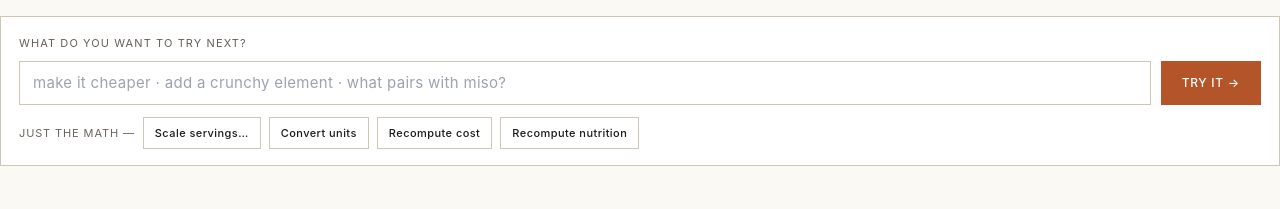
Test: the intent error clears on the next valid submit
Click the button "Try it →".
click(1211, 83)  # box x1=1161 y1=61 x2=1261 y2=105
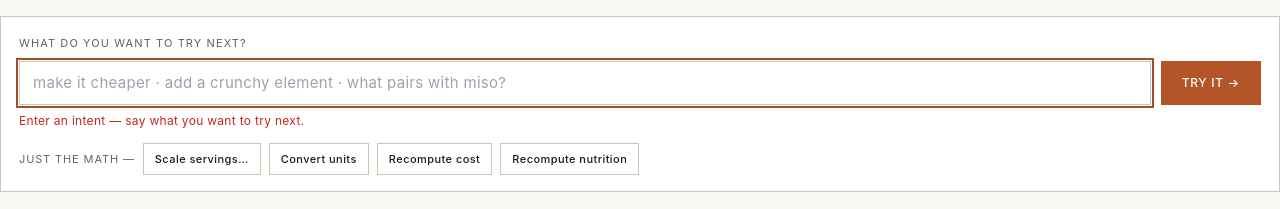
expect the message "Enter an intent — say what you want to try next." is shown: met, box x1=18 y1=112 x2=304 y2=128
Replace the text in the field labelled "What do you want to try next?" with "make it cheaper" at (585, 83), box x1=19 y1=61 x2=1151 y2=105
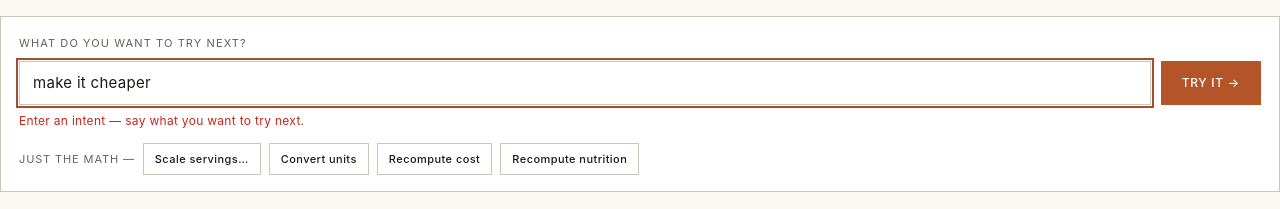
Click the button "Try it →".
click(1211, 83)  # box x1=1161 y1=61 x2=1261 y2=105
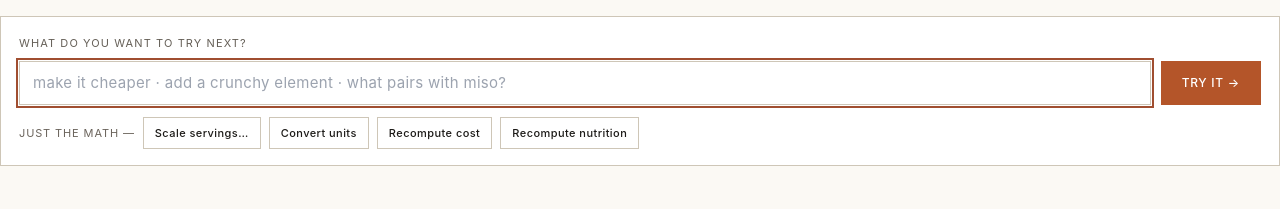
expect the message "Enter an intent — say what you want to try next." is gone: met
